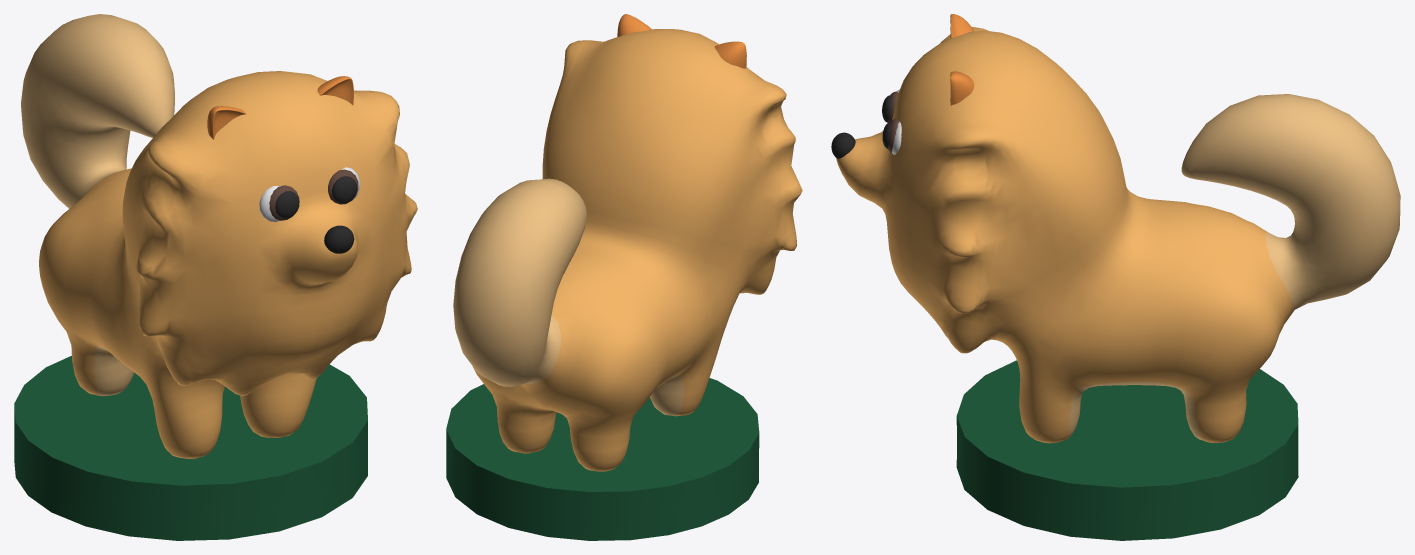
The model's file is Dog1.glb.
The picture shows the model from 3 angles, left to right: view 1: azimuth 30°, elevation 25°; view 2: azimuth 150°, elevation 25°; view 3: azimuth 270°, elevation 25°; orthographic projection. The views are drawn at different scales.
Visible parts, largest first — view 1: Spitz_Body, Spitz_Floor, Spitz_Ears, Spitz_Pupils, Spitz_Eyes, Spitz_Nose; view 2: Spitz_Body, Spitz_Floor, Spitz_Ears; view 3: Spitz_Body, Spitz_Floor, Spitz_Ears.
Part boxes in pixels (x1,y1,x2,y2): Spitz_Body: (21,14,417,458); Spitz_Floor: (14,355,367,540); Spitz_Ears: (207,76,353,139); Spitz_Pupils: (275,176,356,218); Spitz_Eyes: (269,169,358,220); Spitz_Nose: (324,225,354,253); Spitz_Body: (453,29,802,471); Spitz_Floor: (446,378,759,540); Spitz_Ears: (617,14,746,68); Spitz_Body: (836,27,1400,443); Spitz_Floor: (956,360,1298,540); Spitz_Ears: (950,14,974,105).
Size of the model in its own units: 0.9958 by 1.36 by 1.66.
